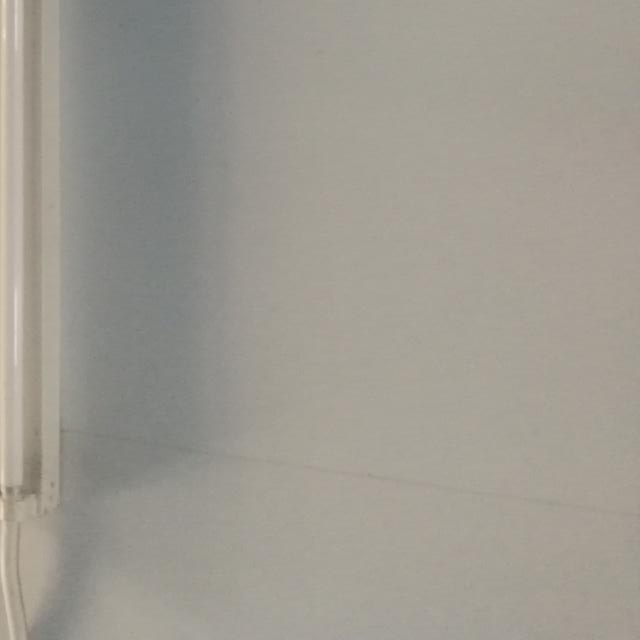fluorescent tube: (0, 0, 103, 542)
